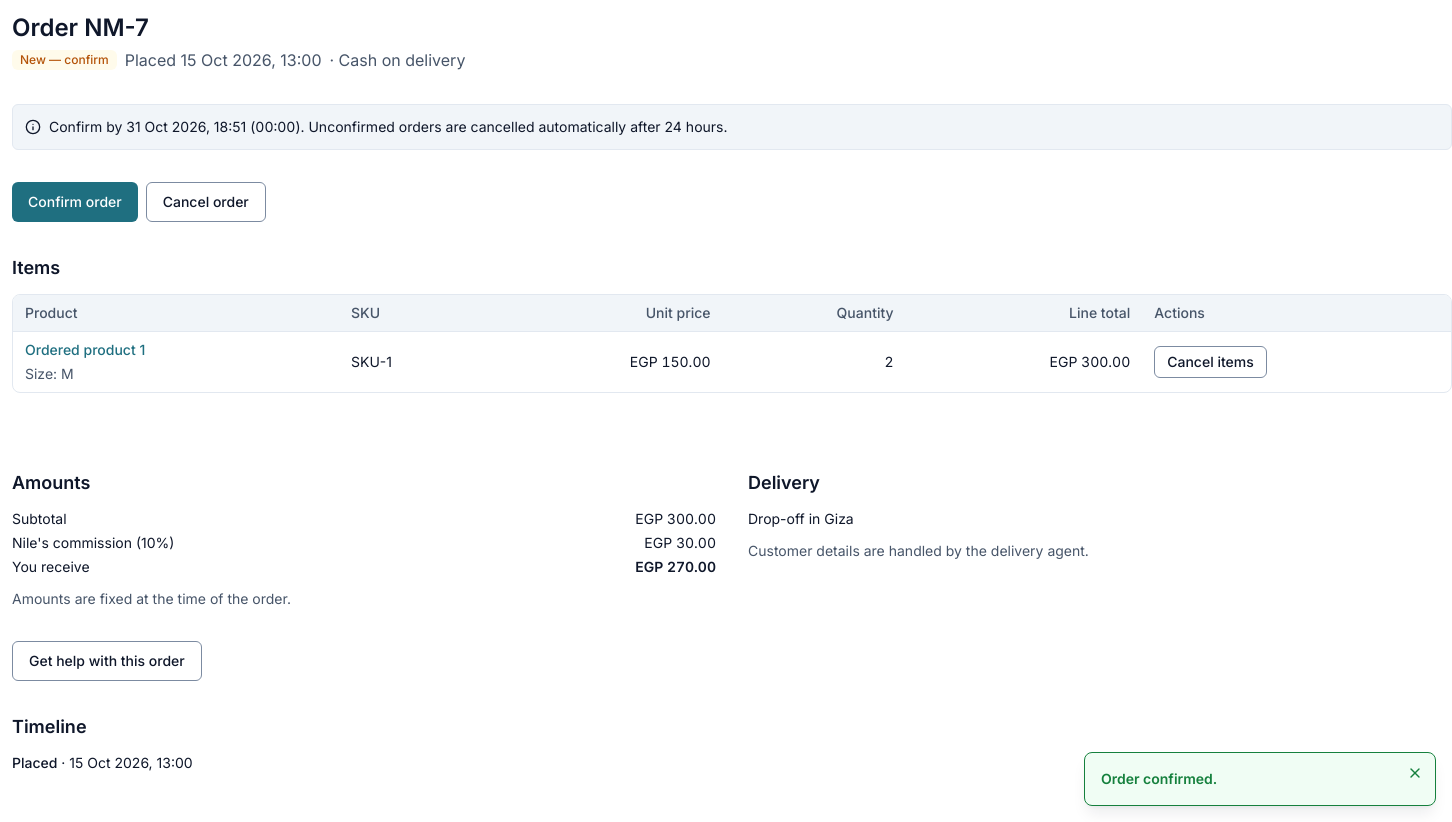
Scenario: seller order (spec 02 SE-15) › Confirm after the deadline, already cancelled by the backend: explained, refetched
Click the button "Confirm order" at x=75, y=202, box [12,182,138,222]
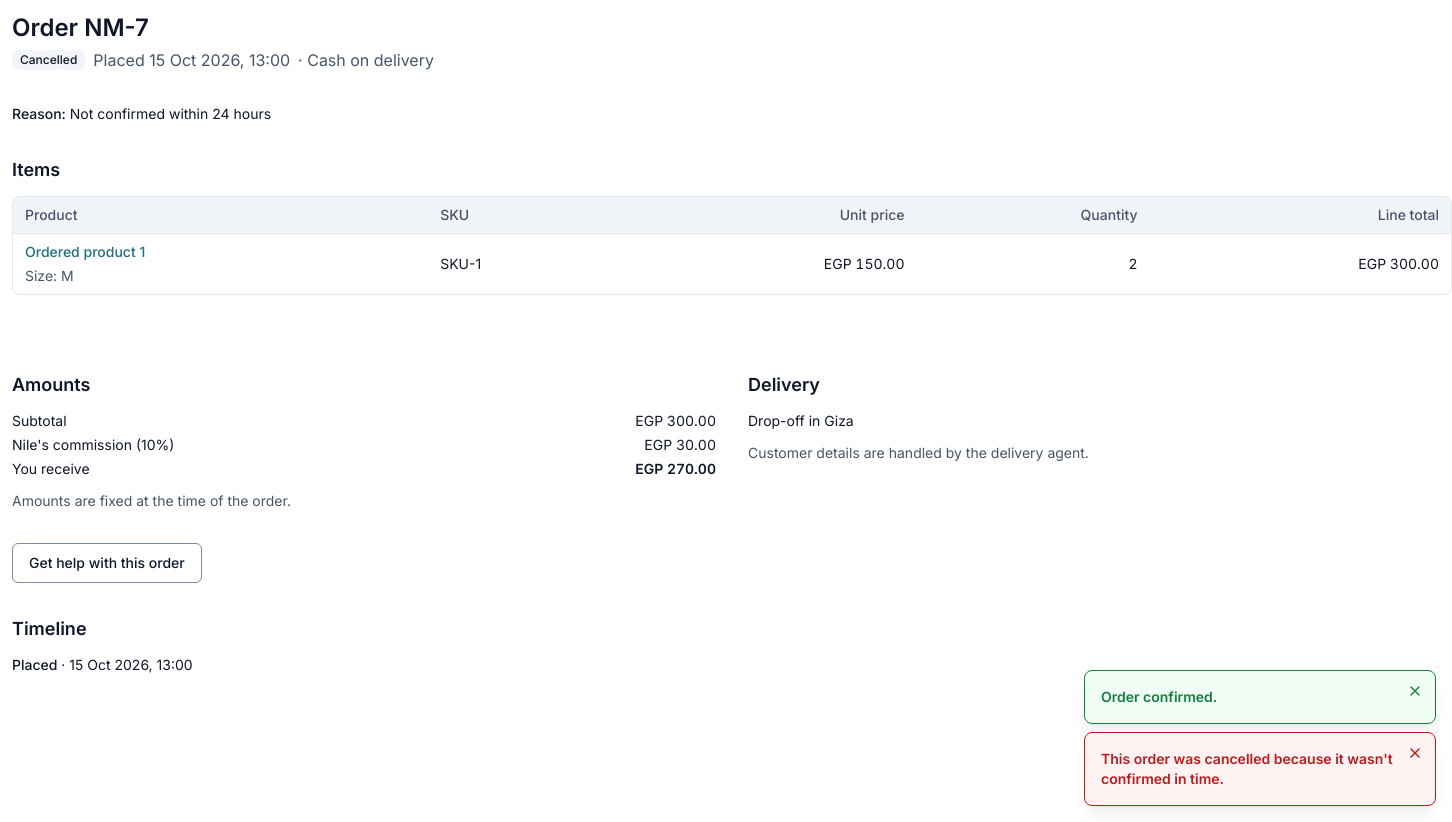
Expected: the text "This order was cancelled because it wasn't confirmed in time." is shown, [1101,749,1395,789]
Expected: the text "Not confirmed within 24 hours" is shown, [70,105,271,122]
